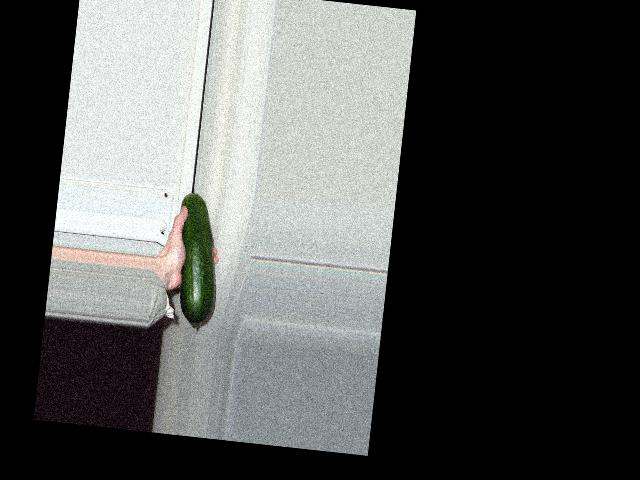cucumber: (168, 192, 227, 329)
